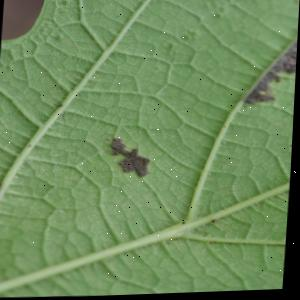Folha: (0, 0, 300, 300)
Fungo: (103, 32, 298, 183), (244, 34, 298, 107), (104, 137, 155, 180), (244, 72, 283, 107), (118, 148, 153, 179), (105, 137, 139, 159)
